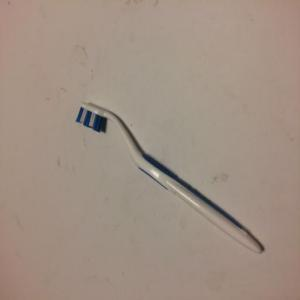Trash: (75, 102, 265, 256)
